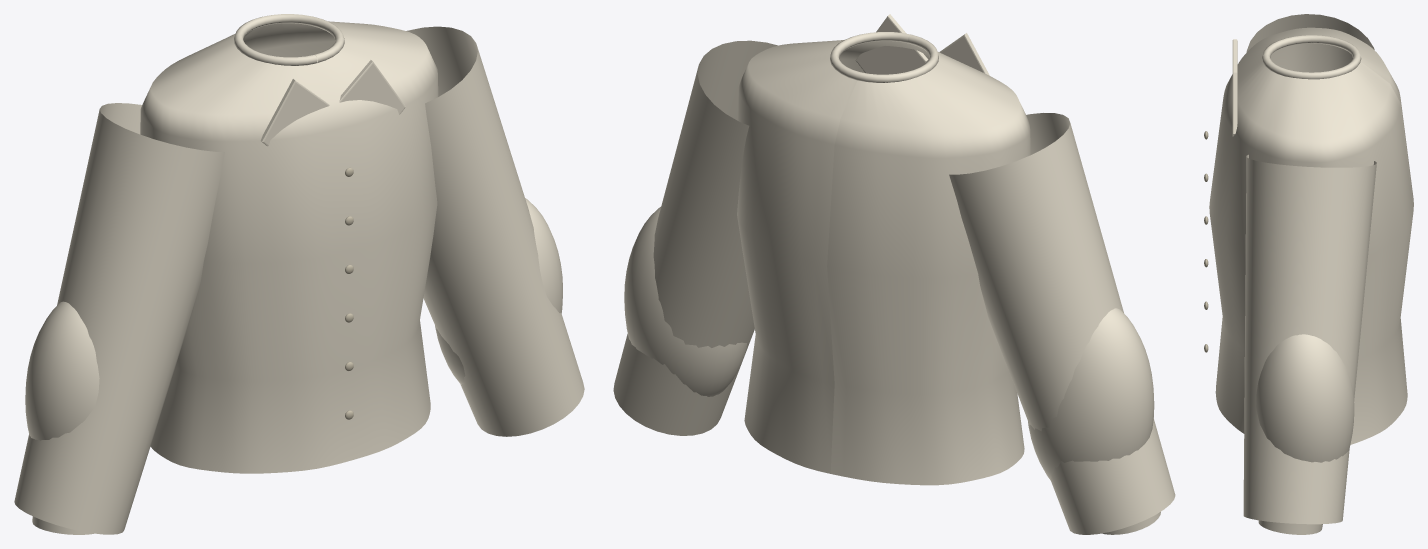
File: chemise-aube-femme.glb
3 renders of one model, left to right at view 1: azimuth 30°, elevation 25°; view 2: azimuth 150°, elevation 25°; view 3: azimuth 270°, elevation 25°, orthographic. The views are drawn at different scales.
Visible parts, largest first — view 1: edit-08, long-sleeve (×2); view 2: edit-08, long-sleeve (×2); view 3: edit-08, long-sleeve (×2).
Boxes of the visible parts, bbox=[...] form: edit-08: bbox=[25, 14, 562, 534]; long-sleeve (×2): bbox=[14, 26, 584, 534]; edit-08: bbox=[624, 14, 1160, 534]; long-sleeve (×2): bbox=[613, 40, 1175, 534]; edit-08: bbox=[1204, 27, 1413, 534]; long-sleeve (×2): bbox=[1243, 14, 1376, 524].
Size of the model in its own units: 0.788 by 0.5885 by 0.2945.
